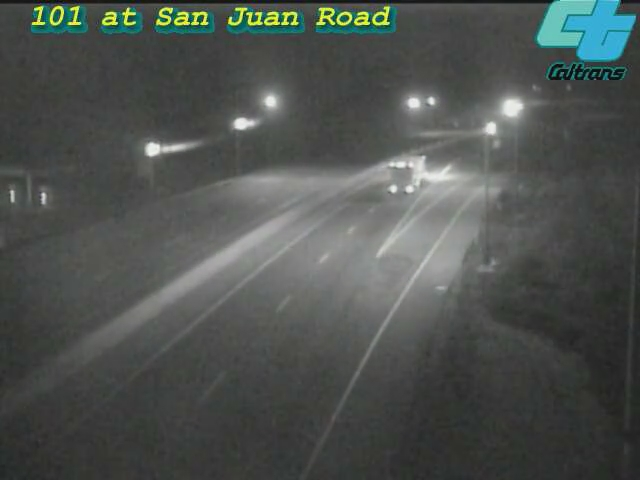vehicle: (372, 128, 452, 208), (466, 103, 516, 153), (485, 84, 535, 134)
